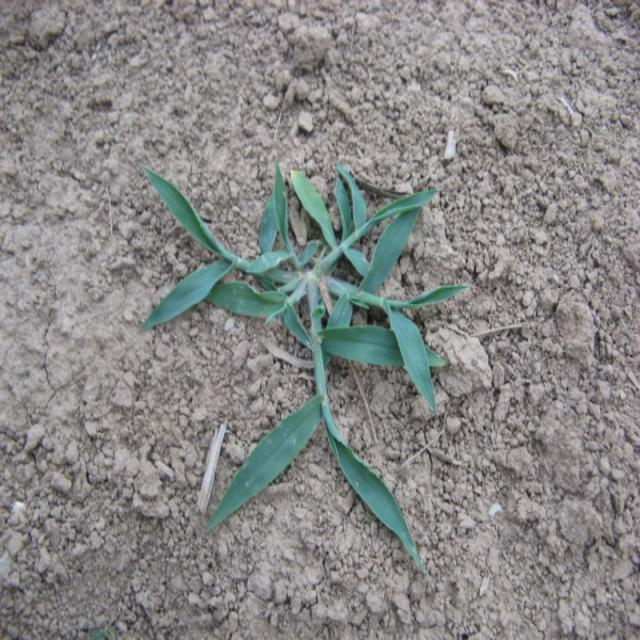bg: (138, 146, 470, 564)
